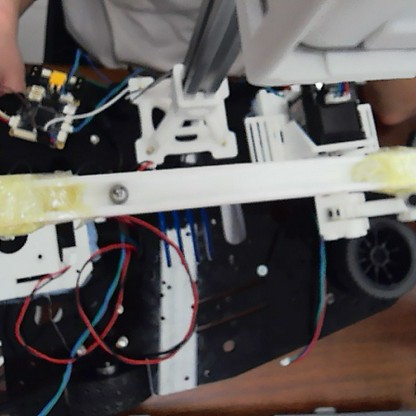ironball: (103, 180, 128, 206)
